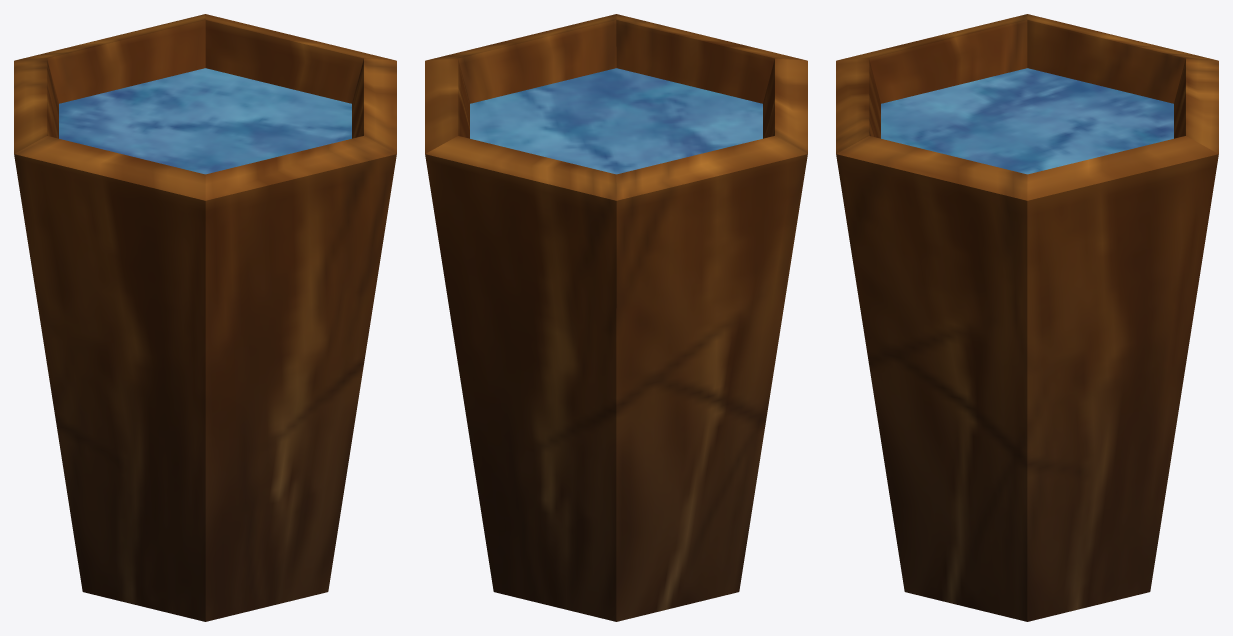
Rendered from barrel_3.fbx.
The picture shows the model from 3 angles, left to right: view 1: azimuth 30°, elevation 25°; view 2: azimuth 150°, elevation 25°; view 3: azimuth 270°, elevation 25°; orthographic projection.
Visible parts, largest first — view 1: barrel_3; view 2: barrel_3; view 3: barrel_3.
Boxes of the visible parts, left/top/right/bottom form: barrel_3: left=14, top=14, right=396, bottom=621; barrel_3: left=425, top=14, right=807, bottom=621; barrel_3: left=836, top=14, right=1218, bottom=621.
Size of the model in its own units: 0.6736 by 0.7816 by 0.5834.
